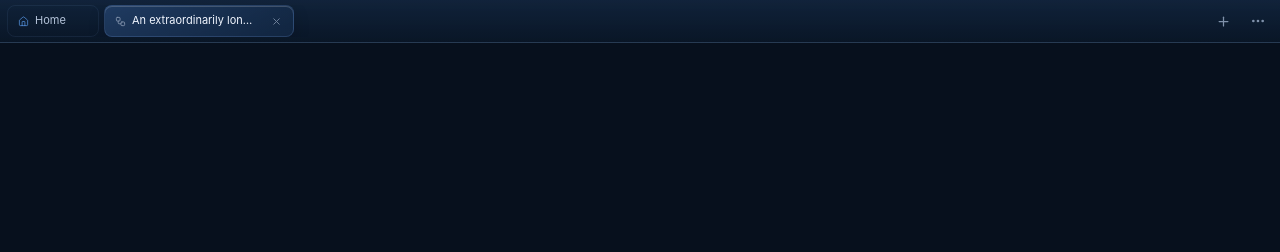
Test: workspace tab close controls › dismisses the context menu on outside click without closing a tab
This screenshot has width=1280, height=252.
Right-click the tab "An extraordinarily long" at (199, 21), box 104,5 -> 294,37
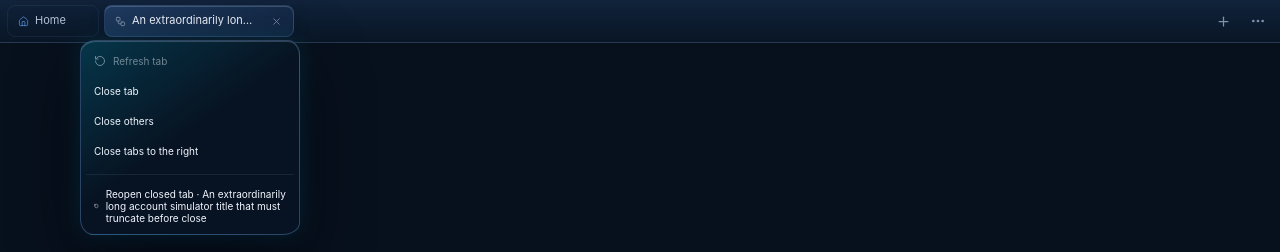
Expected: the menu is shown, 80,40 -> 300,235
Press the mouse on the element that starts with "Home" at (640, 22), box 0,0 -> 1279,43
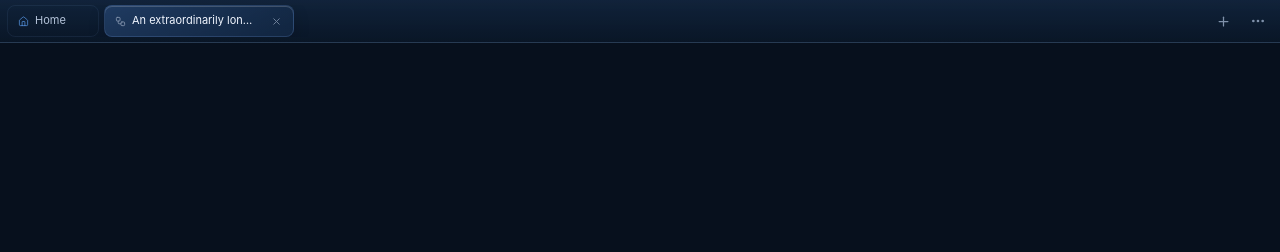
Expected: the menu is gone
